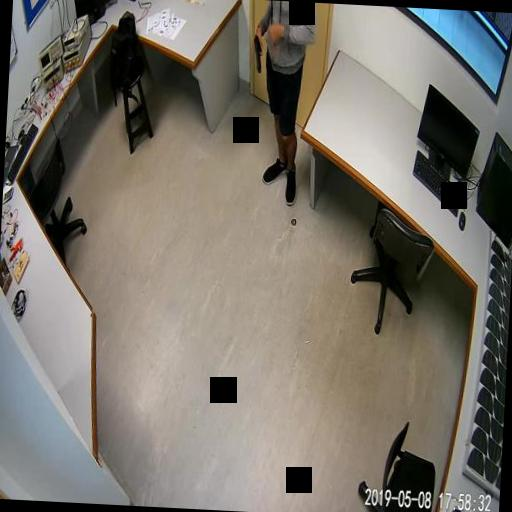Handgun: (250, 32, 262, 72)
